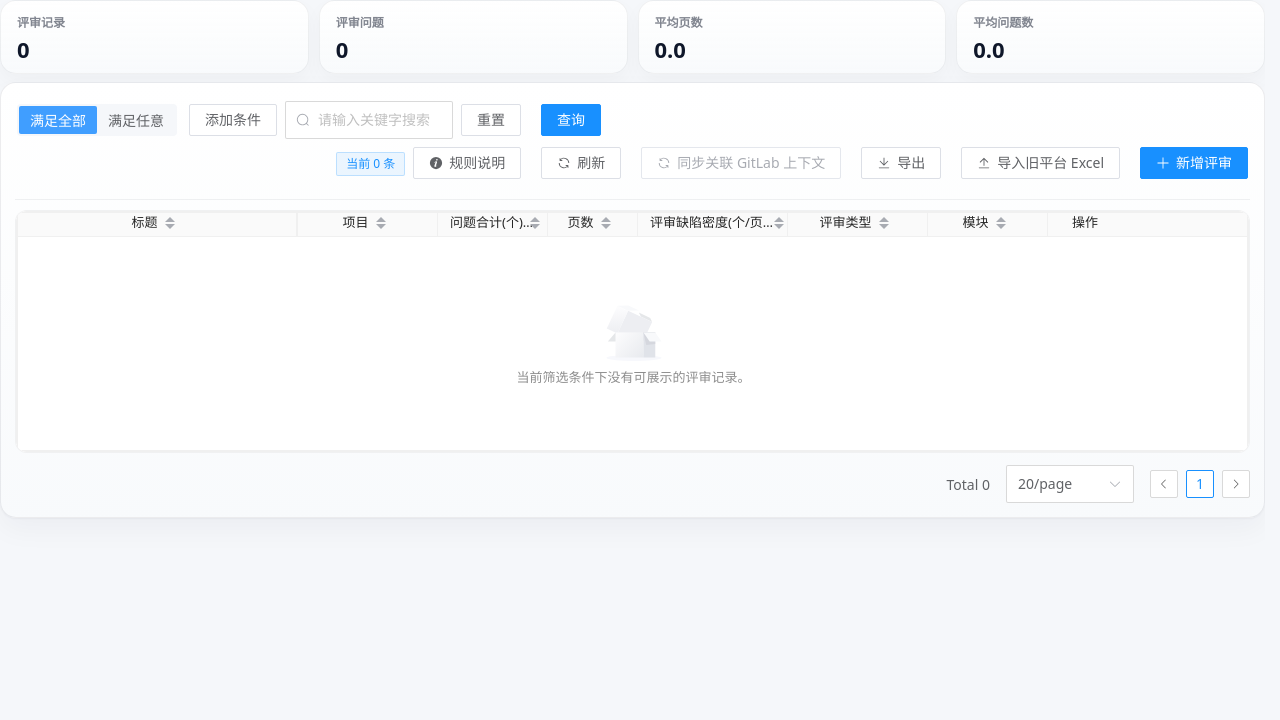
Scenario: ReviewDataManagementView mount smoke › mounts without route errors and opens the help guide drawer
This screenshot has width=1280, height=720.
Click the button with test id "review-rule-explanation-trigger" at coordinates (467, 163), box [413,147,521,179]
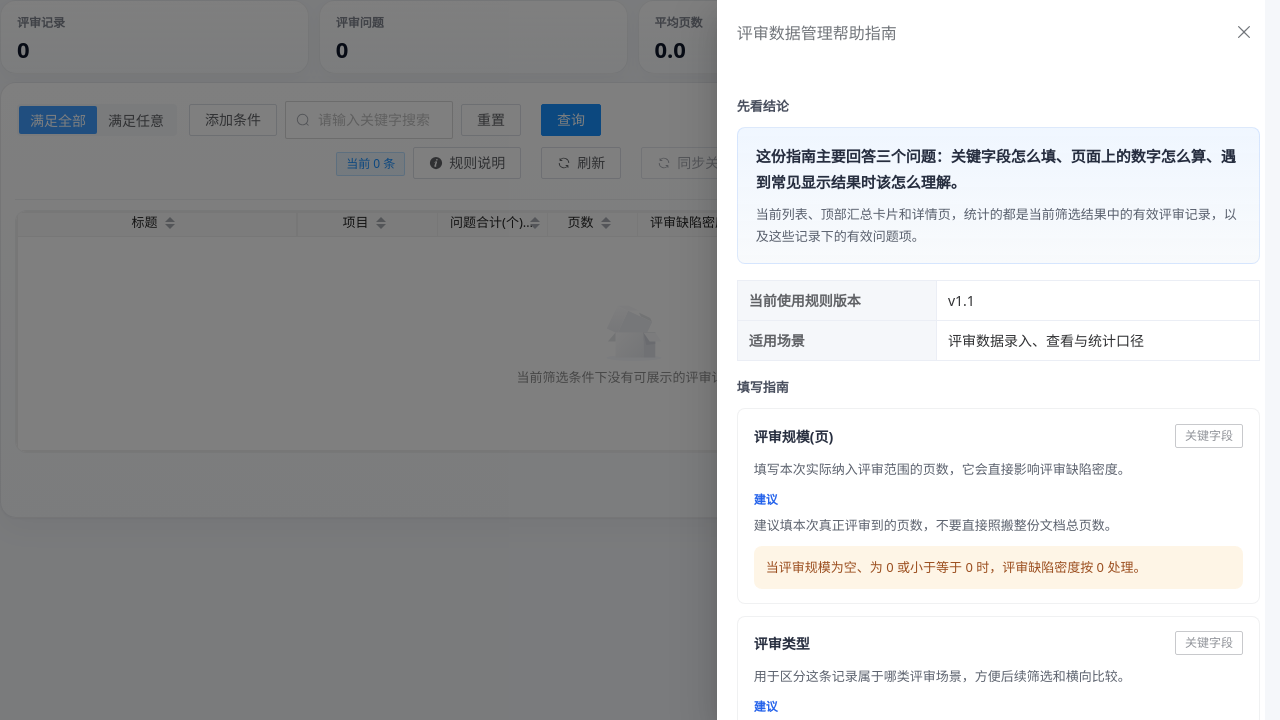
Expected: the text "评审缺陷密度" is shown, [650,213,767,231]
Now the text "帮助指南" is shown, box [737,22,897,44]
